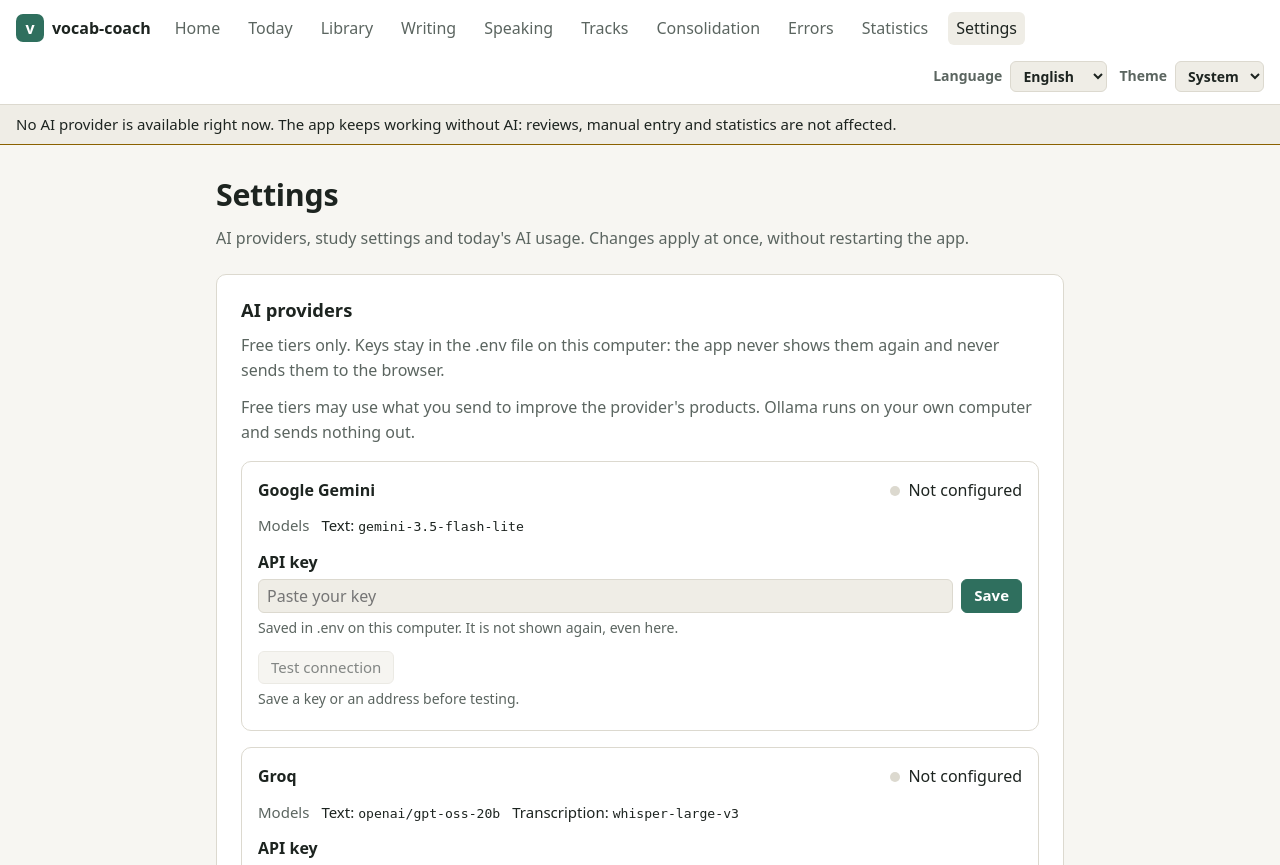
Settings page: providers › saves a key as JSON, clears the field and refreshes the status
The width and height of the screenshot is (1280, 865).
Type "AIzaSy-invented-key-1234567890" into the 1st password field labelled "API key" at (606, 596), box [258, 578, 953, 613]
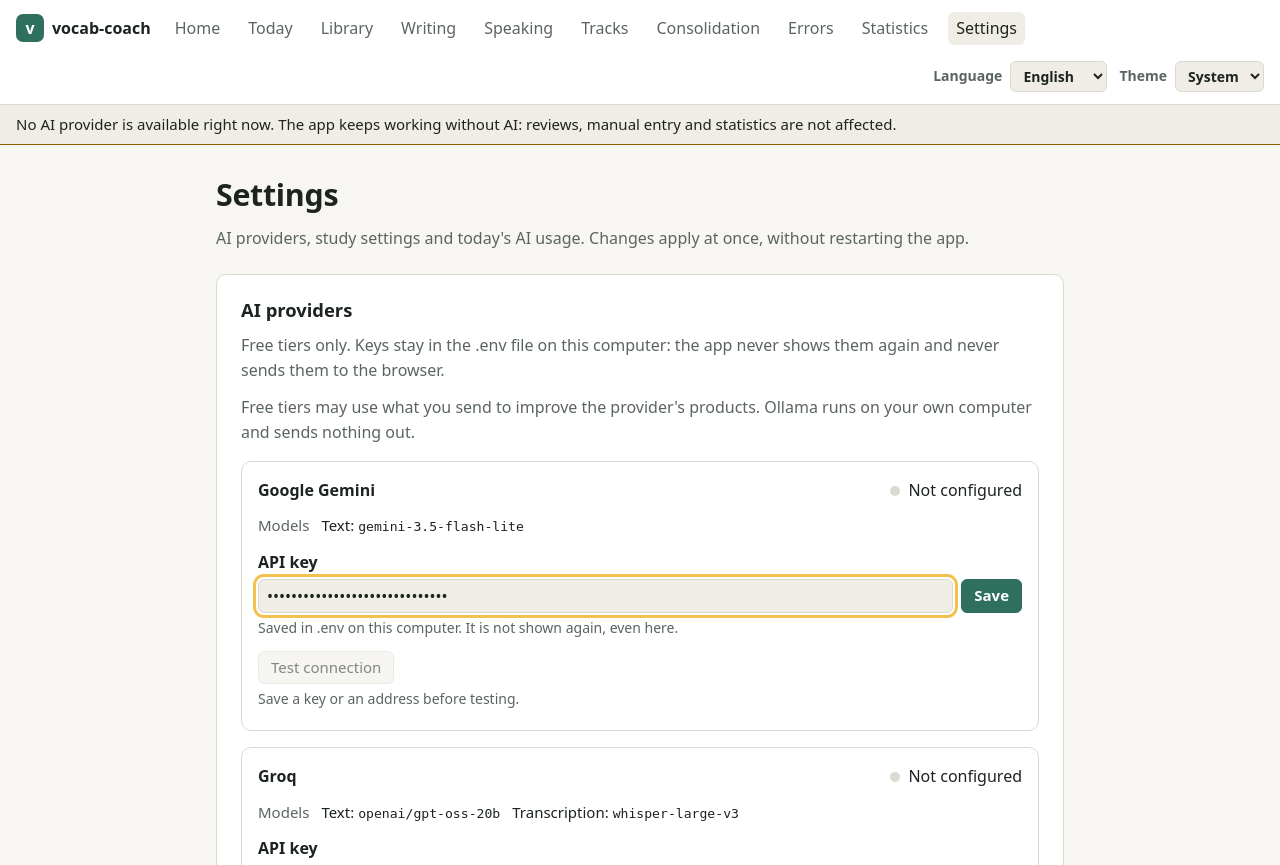
Click the 1st button "Save" at (992, 596), box [961, 578, 1022, 613]
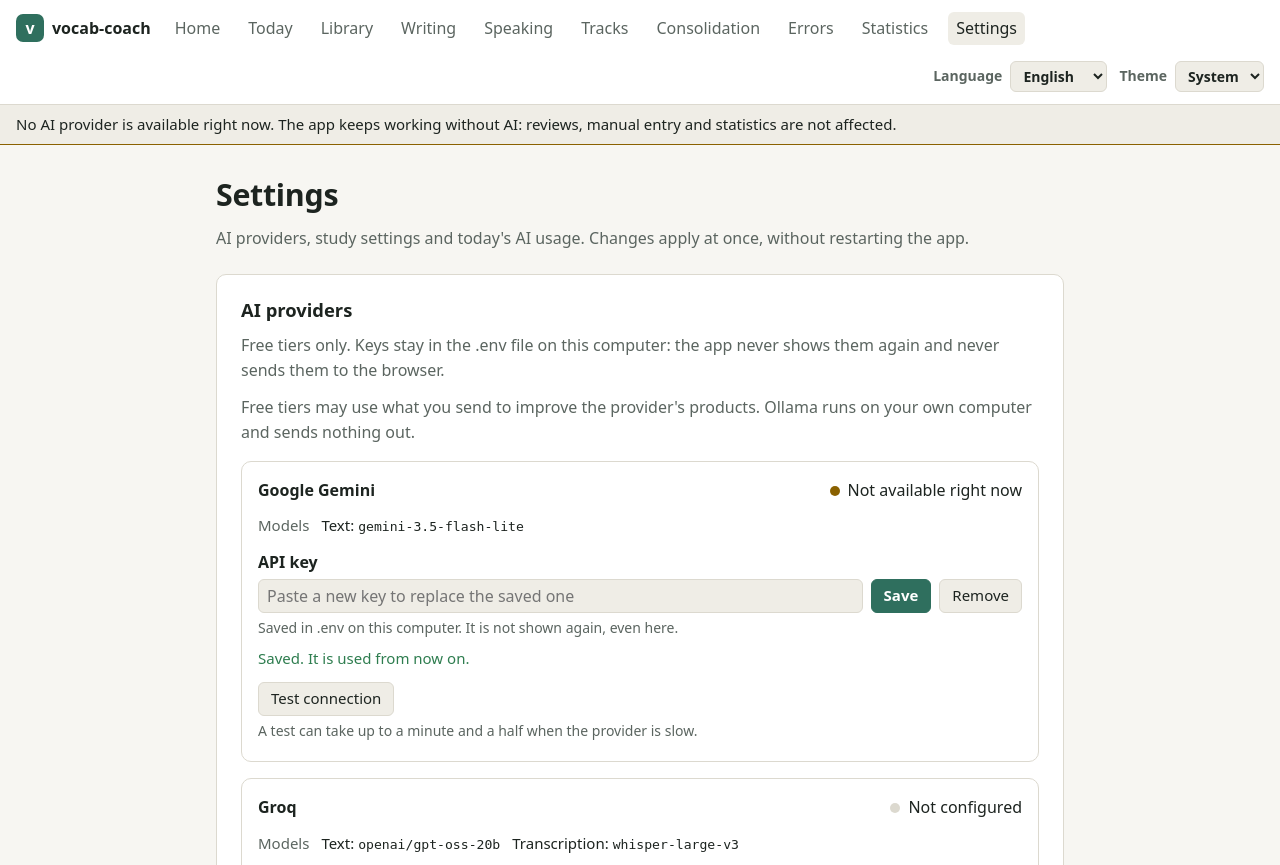
Expected: the text "Saved. It is used from now on." is shown, [258, 648, 469, 668]
Expected: the password field labelled "API key" below "Not available right now" is empty, [258, 578, 863, 613]
Expected: the button "Remove" is shown, [939, 578, 1022, 613]
